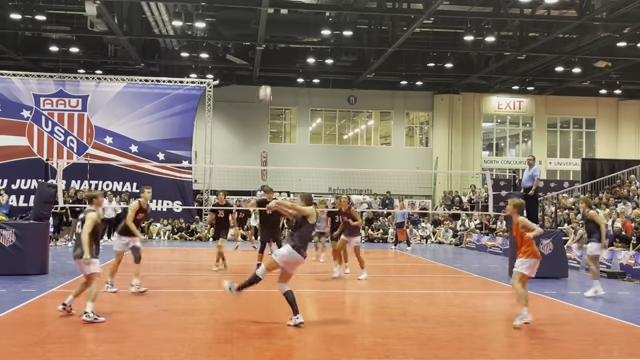ricezione: (222, 191, 322, 328)
